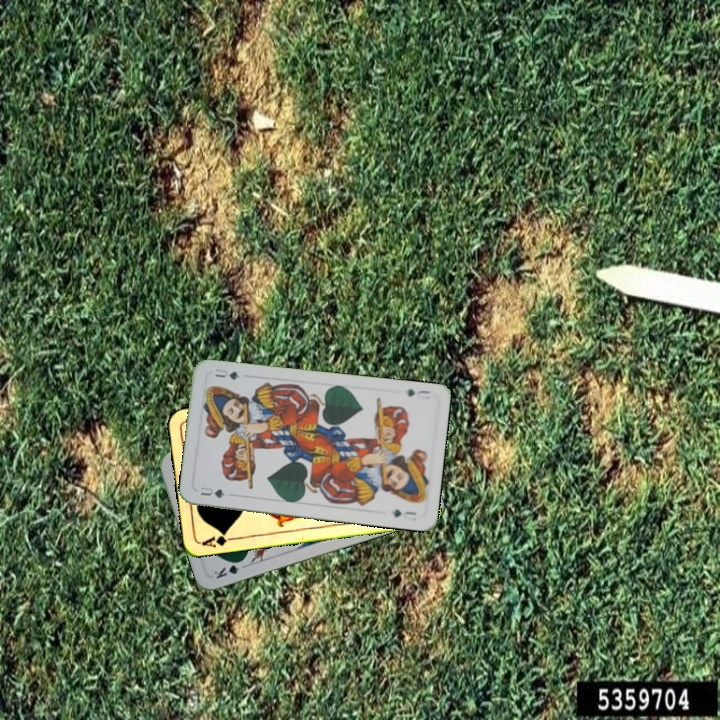GA: (198, 528, 238, 550)
GK: (210, 556, 247, 581)
GU: (197, 483, 228, 501), (403, 384, 433, 402)
